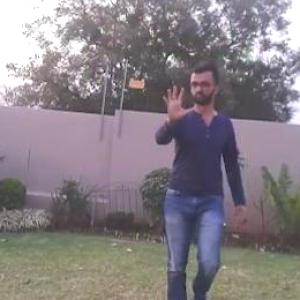follow_hand: (159, 81, 196, 123)
